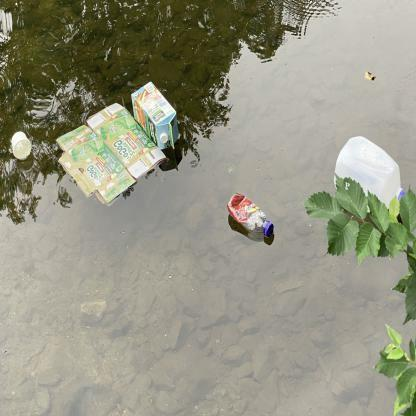Plastic: (328, 133, 408, 216), (223, 188, 279, 243)
Trash: (10, 130, 32, 164)
